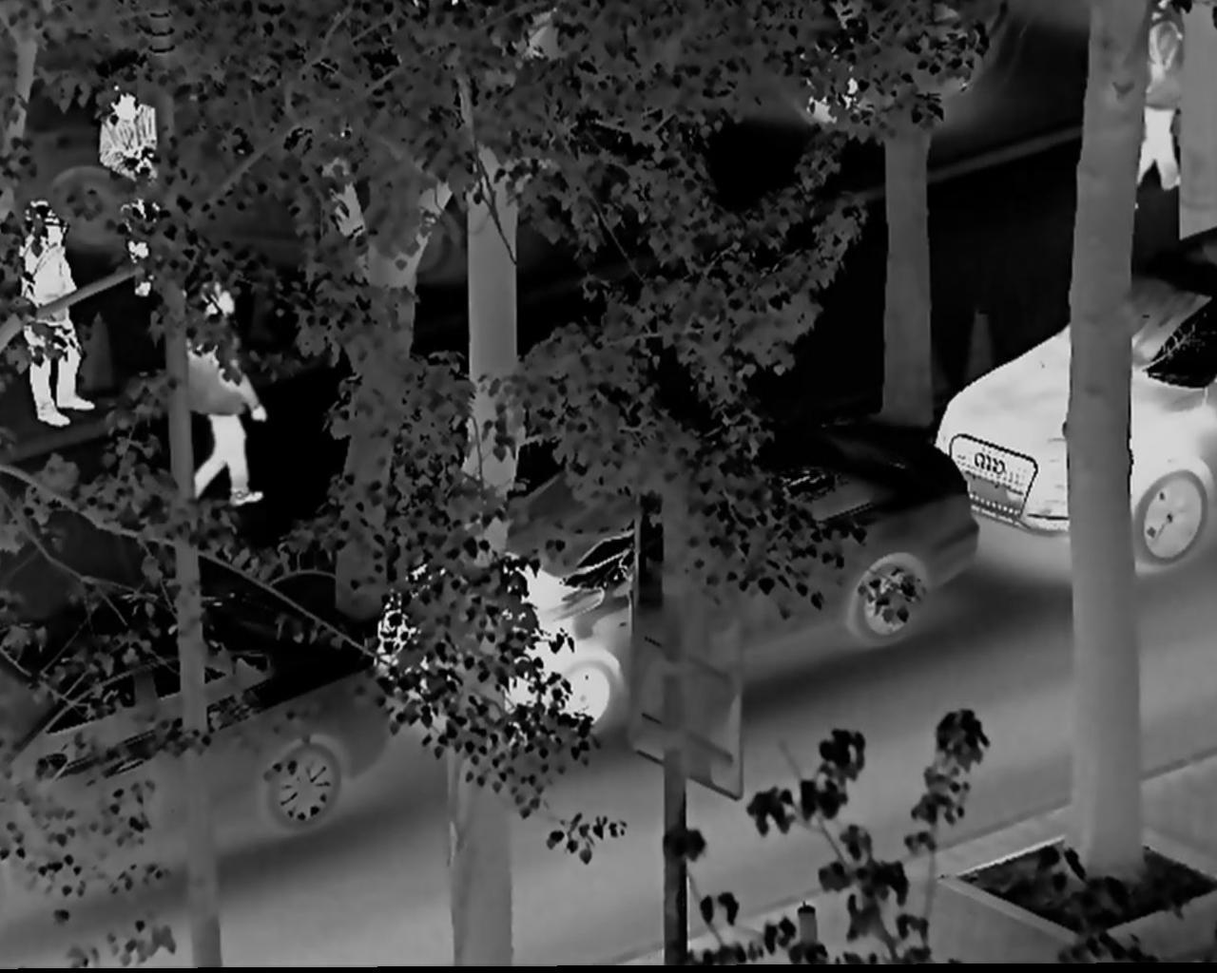person: (95, 86, 184, 313), (182, 288, 270, 514), (14, 196, 97, 428), (1129, 2, 1188, 198)
